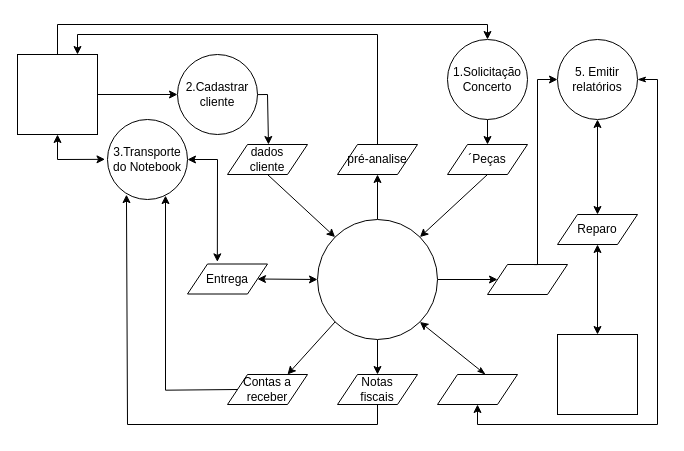
Some shapes in this 684 by 451 pixel diagram are drawn without their labels. Each missing label, with the centre of its shape:
4. Processar Pedido: (x=377, y=279)
Cliente: (x=57, y=94)
Gerência dos Técnicos: (x=597, y=374)
Status: (x=477, y=389)
Triagem: (x=527, y=279)
